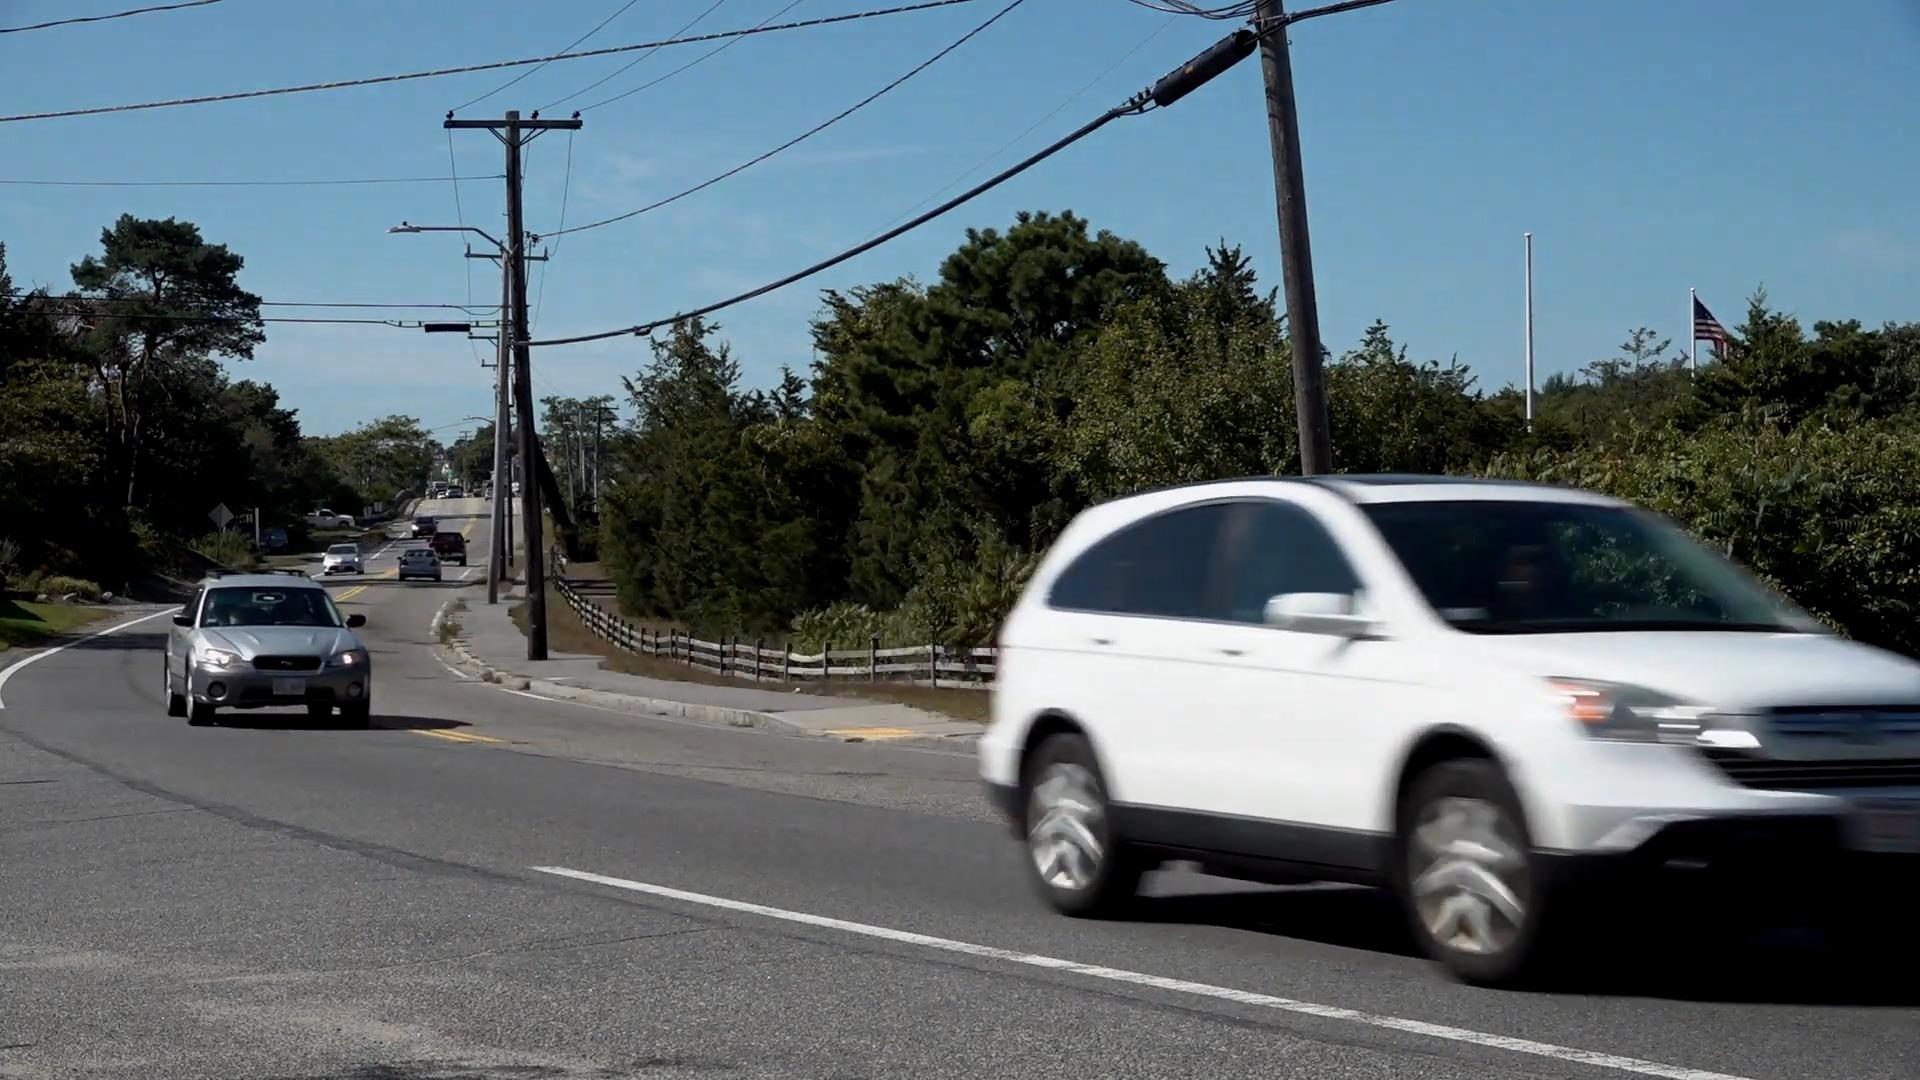suv: (971, 475, 1919, 990), (167, 576, 377, 735)
